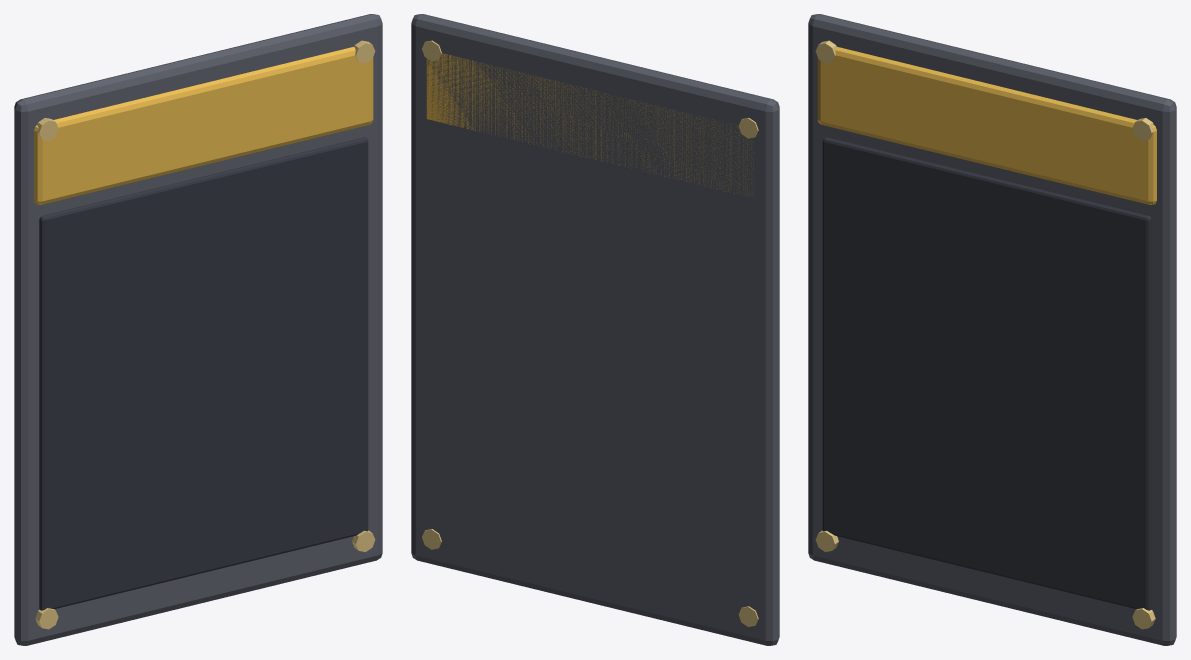
The model's file is card_frame_3d.glb.
3 views of the same model, side by side, from view 1: azimuth 30°, elevation 25°; view 2: azimuth 150°, elevation 25°; view 3: azimuth 330°, elevation 25° (orthographic).
Visible parts, largest first — view 1: CardInsetScreen, CardBacking, CardHeaderStrip; view 2: CardBacking, CardHeaderStrip; view 3: CardInsetScreen, CardBacking, CardHeaderStrip.
Boxes of the visible parts, x1,y1,x2,y2 form: CardInsetScreen: (39, 137, 368, 610); CardBacking: (14, 14, 382, 645); CardHeaderStrip: (34, 47, 373, 204); CardBacking: (411, 14, 779, 645); CardHeaderStrip: (426, 53, 754, 196); CardInsetScreen: (822, 137, 1151, 610); CardBacking: (808, 14, 1176, 645); CardHeaderStrip: (817, 47, 1156, 204).
Size of the model in its own units: 0.132 by 0.188 by 0.009.
